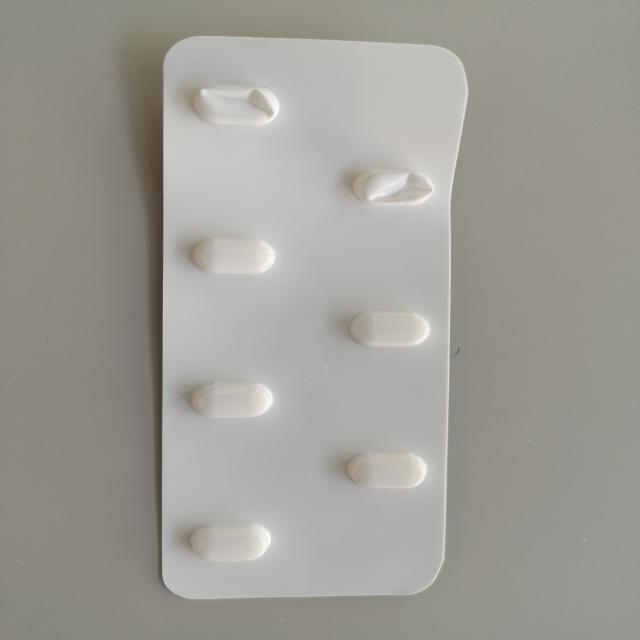Empty: (189, 78, 284, 131), (344, 162, 442, 210)
Pill: (181, 376, 283, 423), (180, 518, 279, 565), (339, 306, 436, 351), (186, 232, 280, 278), (342, 447, 433, 493)
